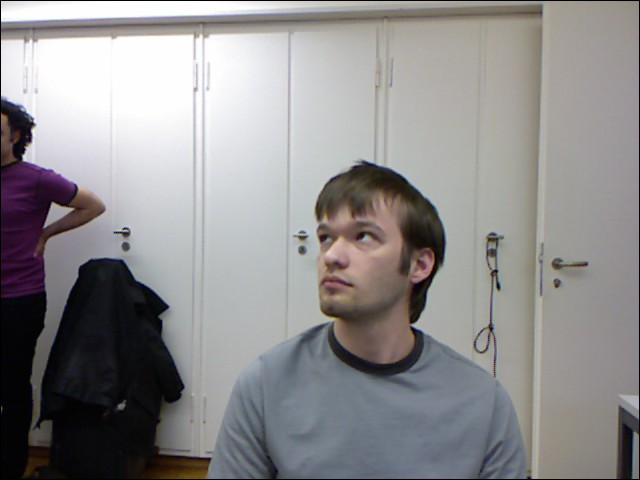deflection: (230, 169, 521, 464)
